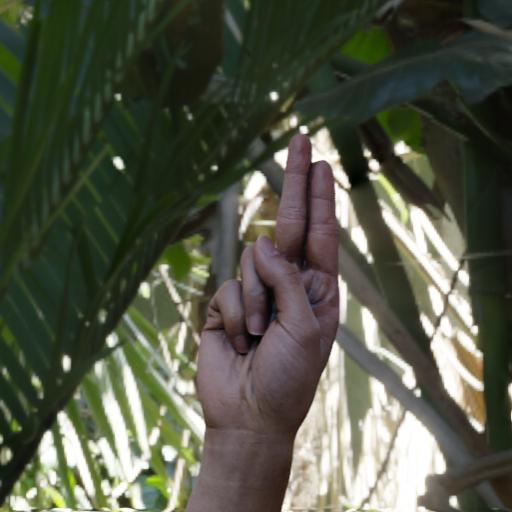U: (165, 118, 343, 512)
